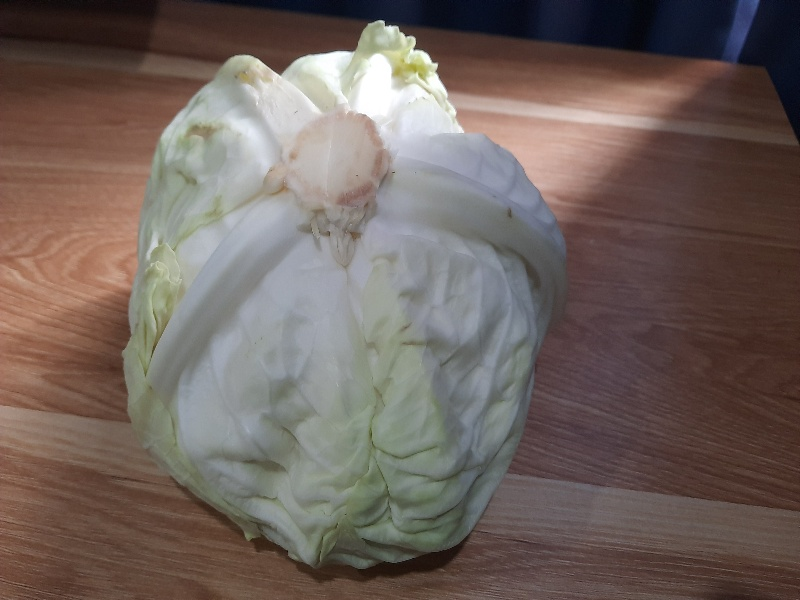vege: (122, 26, 576, 573)
